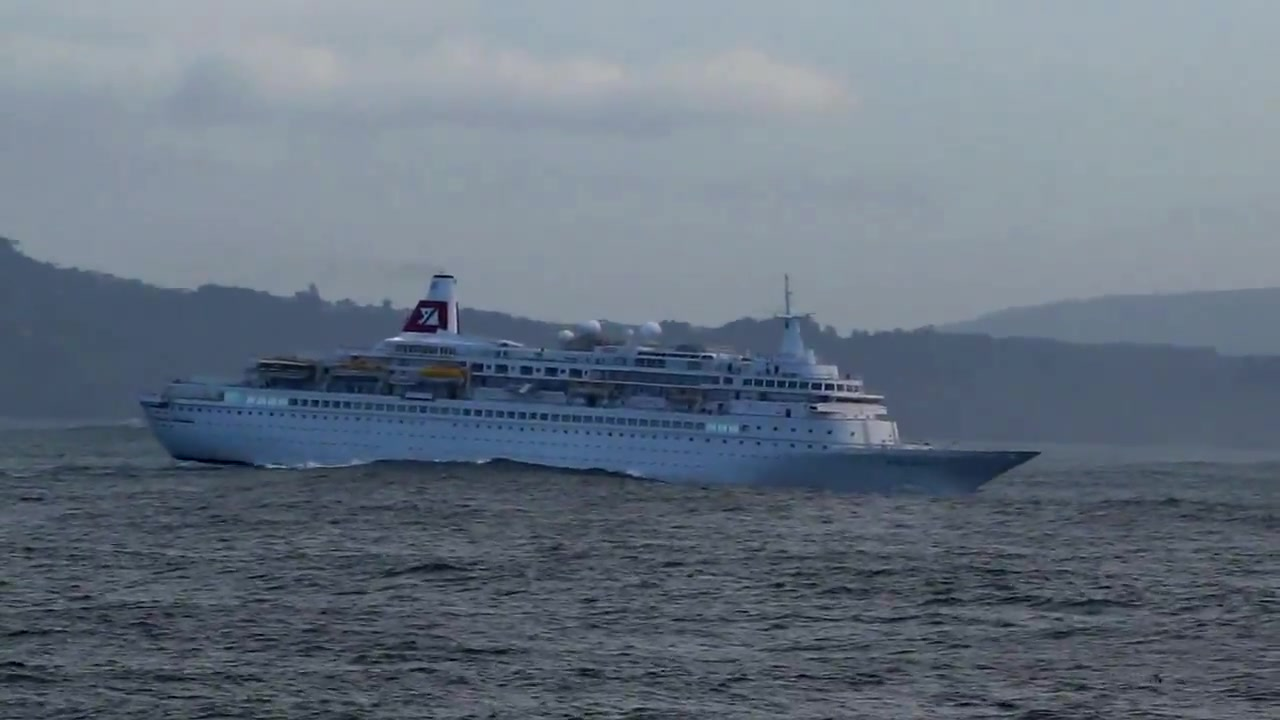boat: (143, 272, 1044, 504)
